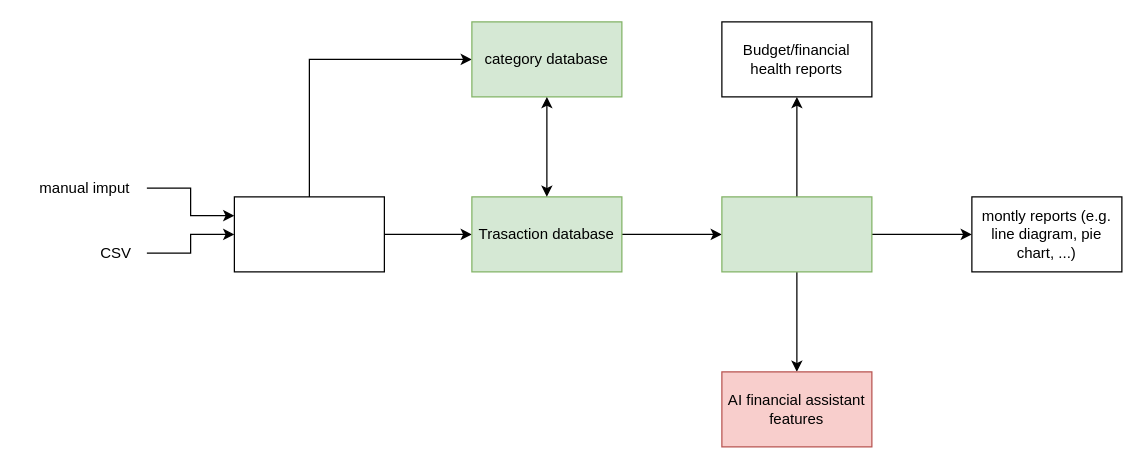
This 1144x469 diagram has some shape labels left out. Here are the shapes that lost their labels. From the top down, the centre of each, then its label:
At point (308, 234): "Tranaction CRUD".
At point (796, 234): "Account database".
